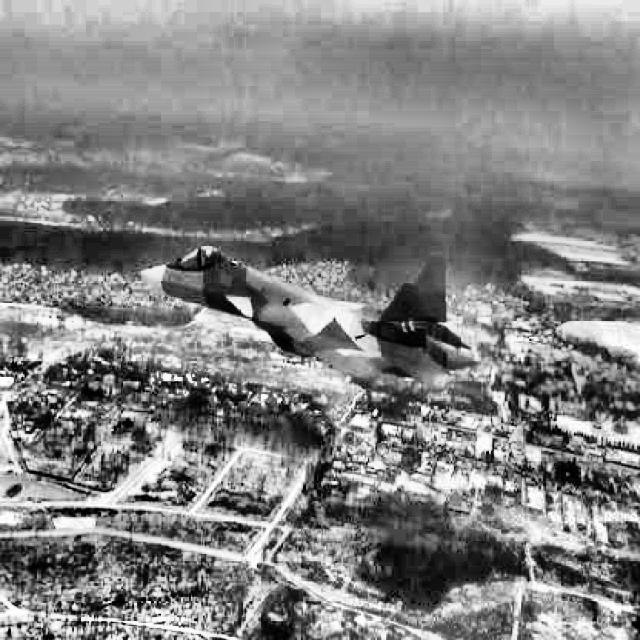Su57: (138, 244, 480, 390)
